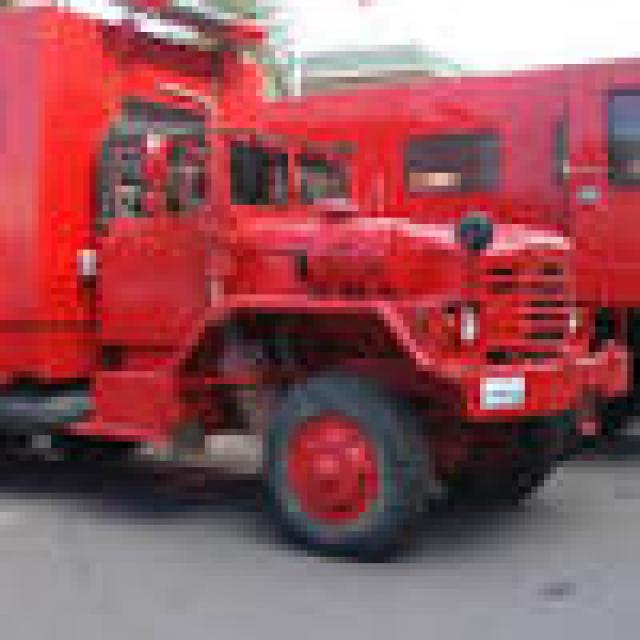pompier: (10, 12, 596, 558)
